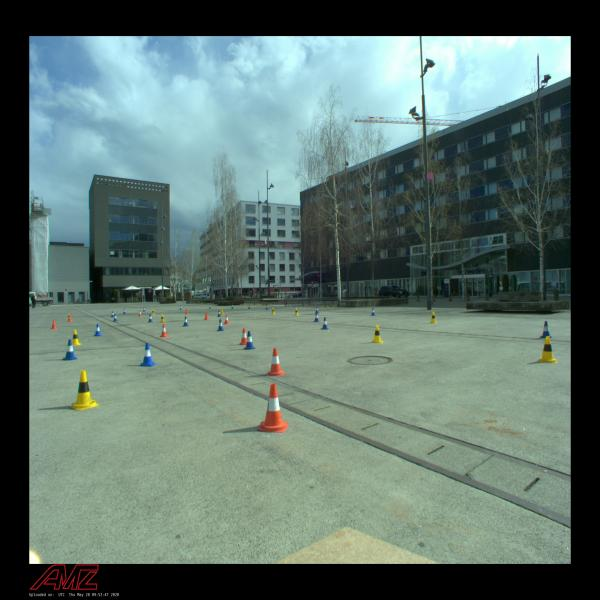blue_cone: (138, 343, 156, 366), (62, 339, 78, 361), (243, 331, 256, 350), (539, 321, 552, 338), (320, 317, 329, 330), (94, 324, 102, 337), (217, 319, 225, 331), (183, 316, 189, 327), (314, 312, 320, 322), (148, 314, 154, 322), (371, 308, 376, 316), (113, 314, 118, 321), (217, 310, 222, 317), (315, 306, 319, 314), (111, 311, 115, 318), (122, 309, 126, 314), (265, 305, 269, 310), (143, 306, 146, 312), (180, 305, 183, 310), (209, 304, 212, 309), (231, 304, 234, 309), (248, 304, 251, 309)
orange_cone: (258, 384, 289, 433), (267, 348, 285, 376), (238, 328, 251, 345), (160, 324, 169, 337), (50, 319, 57, 329), (223, 314, 230, 324), (204, 312, 209, 320), (68, 315, 72, 322), (138, 310, 142, 316), (185, 308, 189, 314)
yellow_cone: (69, 370, 99, 411), (539, 336, 557, 363), (372, 325, 384, 343), (69, 330, 82, 346), (430, 312, 437, 324), (160, 314, 166, 323), (67, 313, 72, 321), (294, 308, 299, 316), (220, 308, 225, 315), (151, 309, 156, 315), (271, 308, 276, 314)
